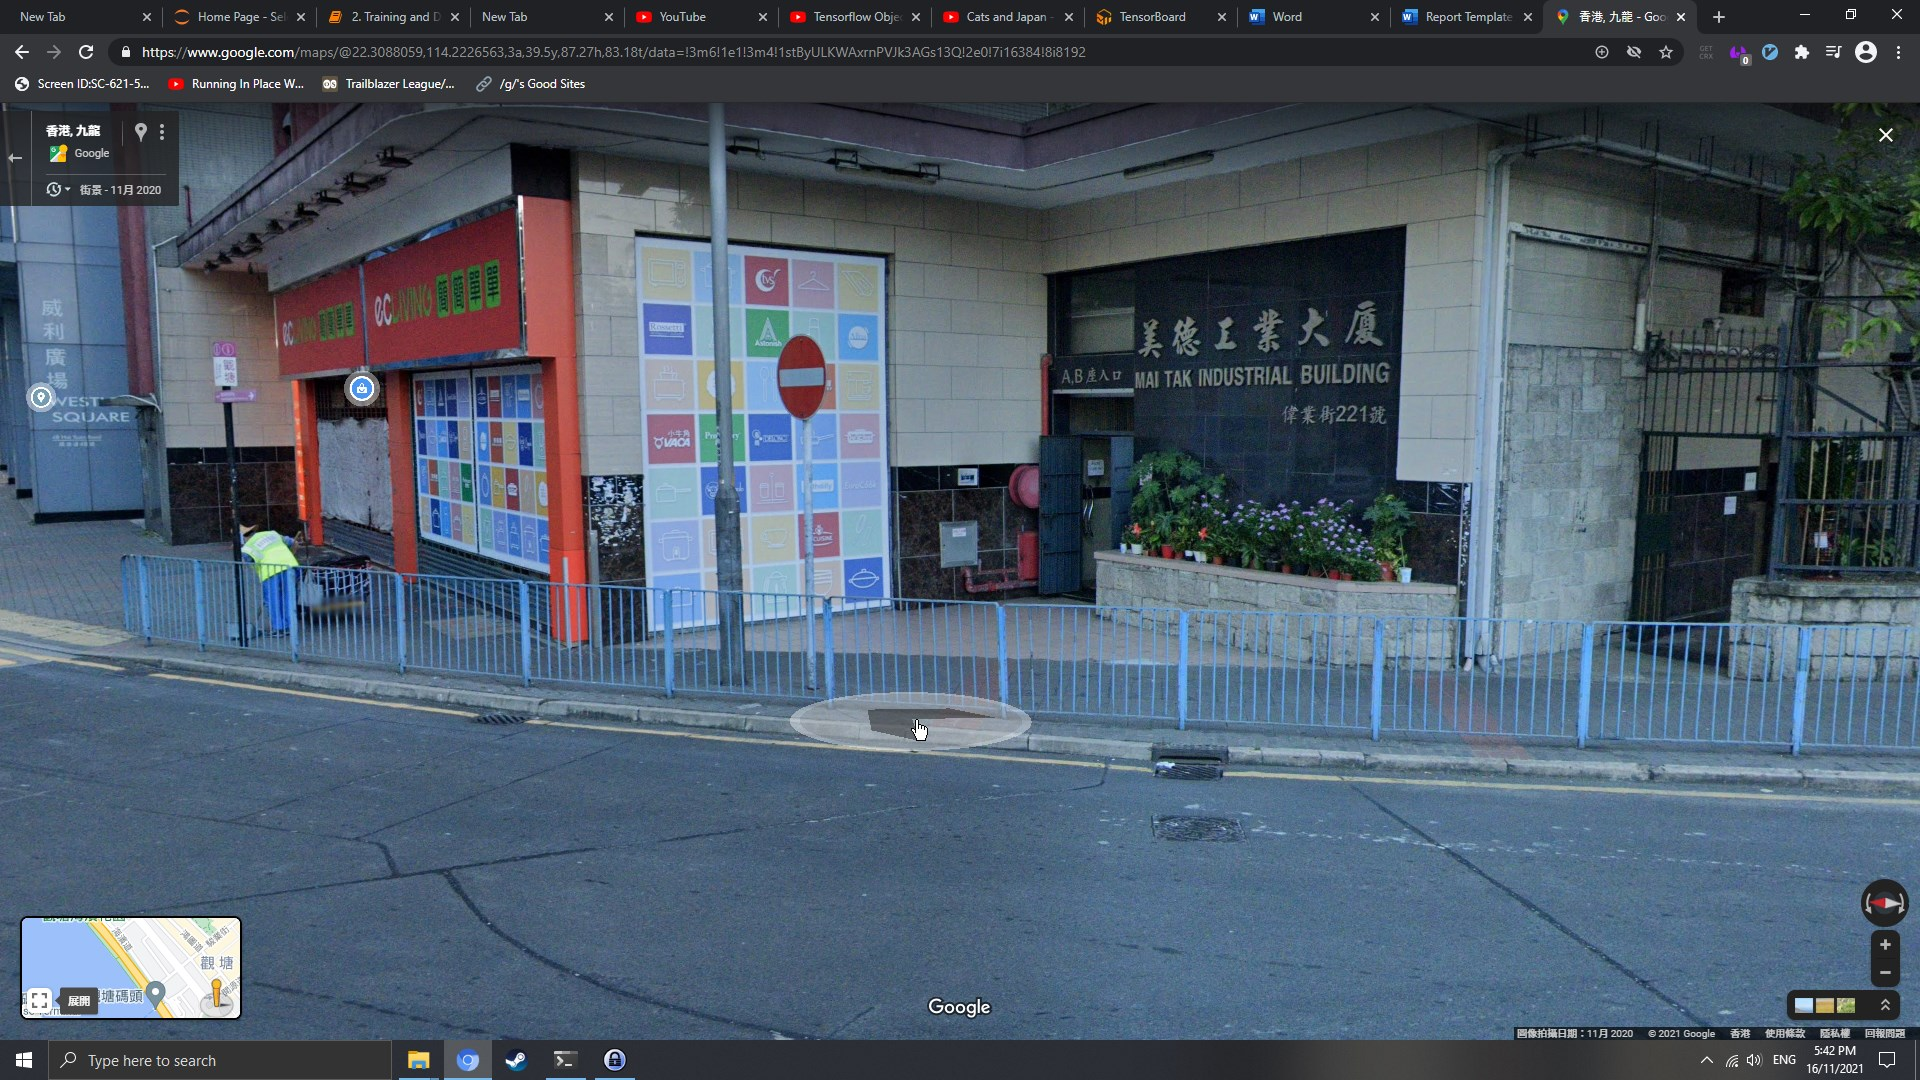NoEntry: (777, 335, 827, 419)
